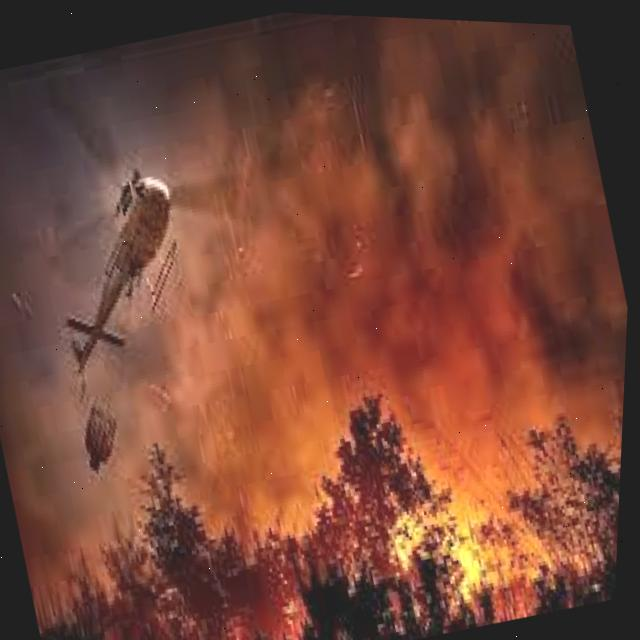smoke: (0, 10, 630, 596)
